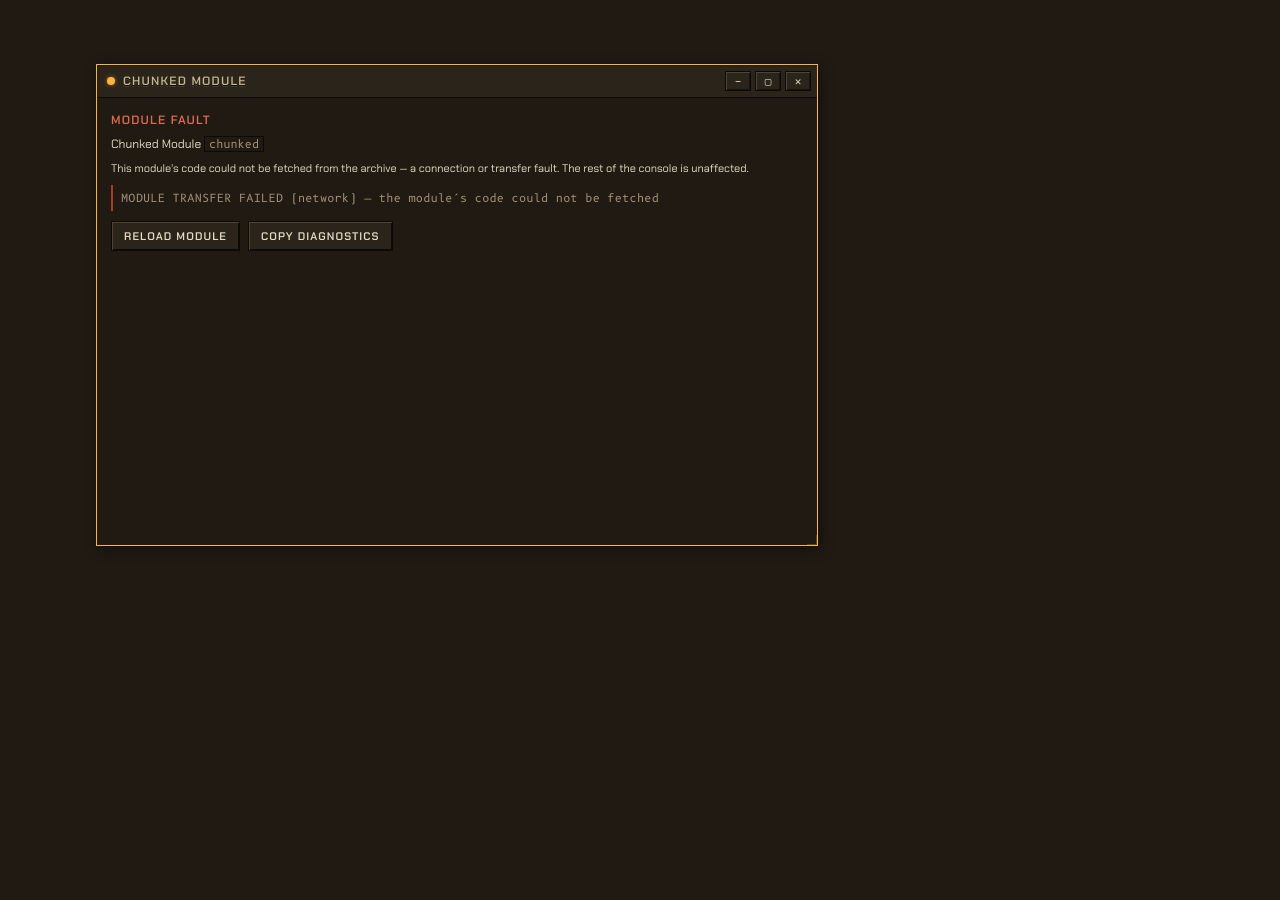
Test case: retryableLazy · reload-module honesty for chunk faults › retryableLazy + Reload module re-attempts the real import and recovers
Click the button "Reload module": (176,236) [111,220,240,250]
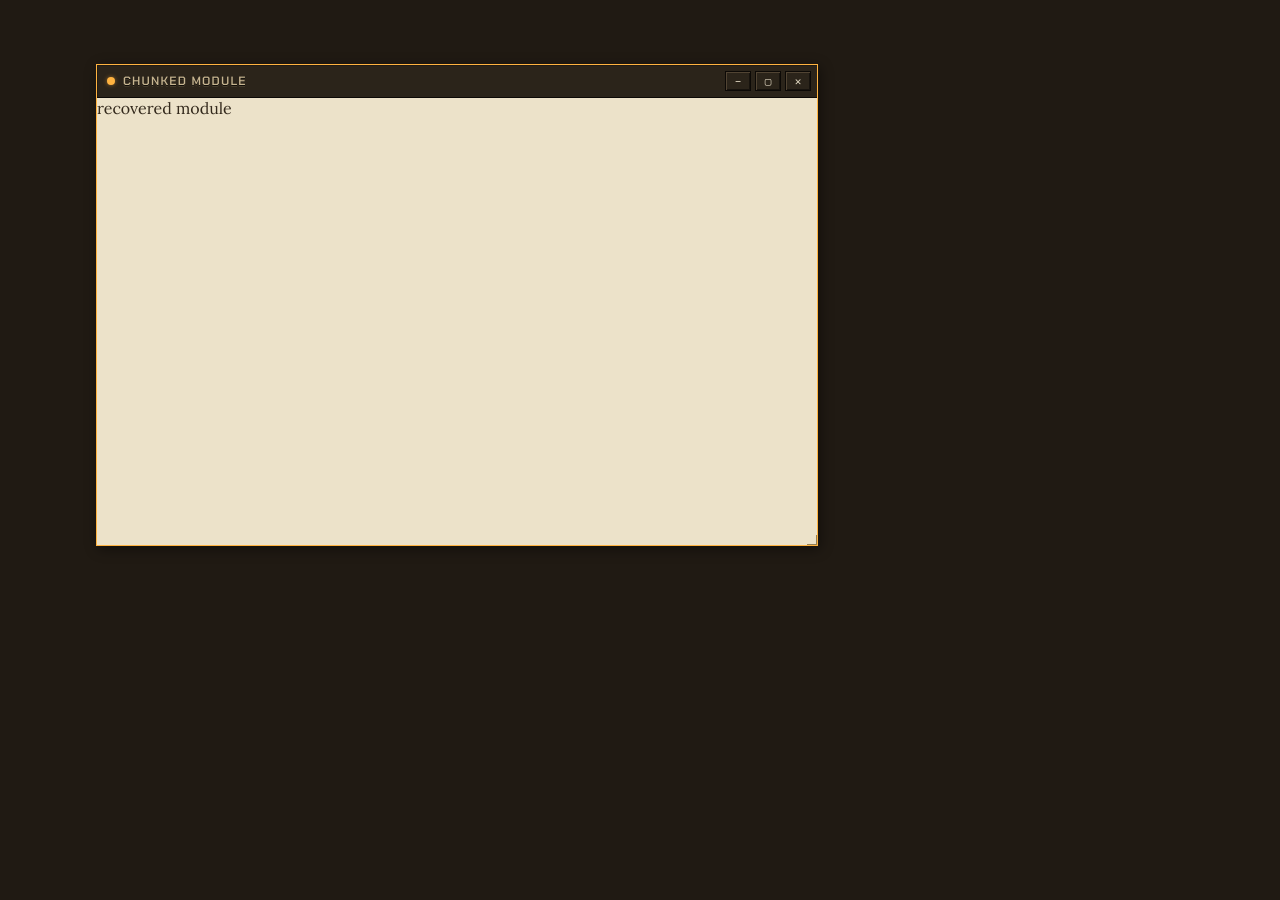
Now the text "recovered module" is shown, box [97,98,232,118]
